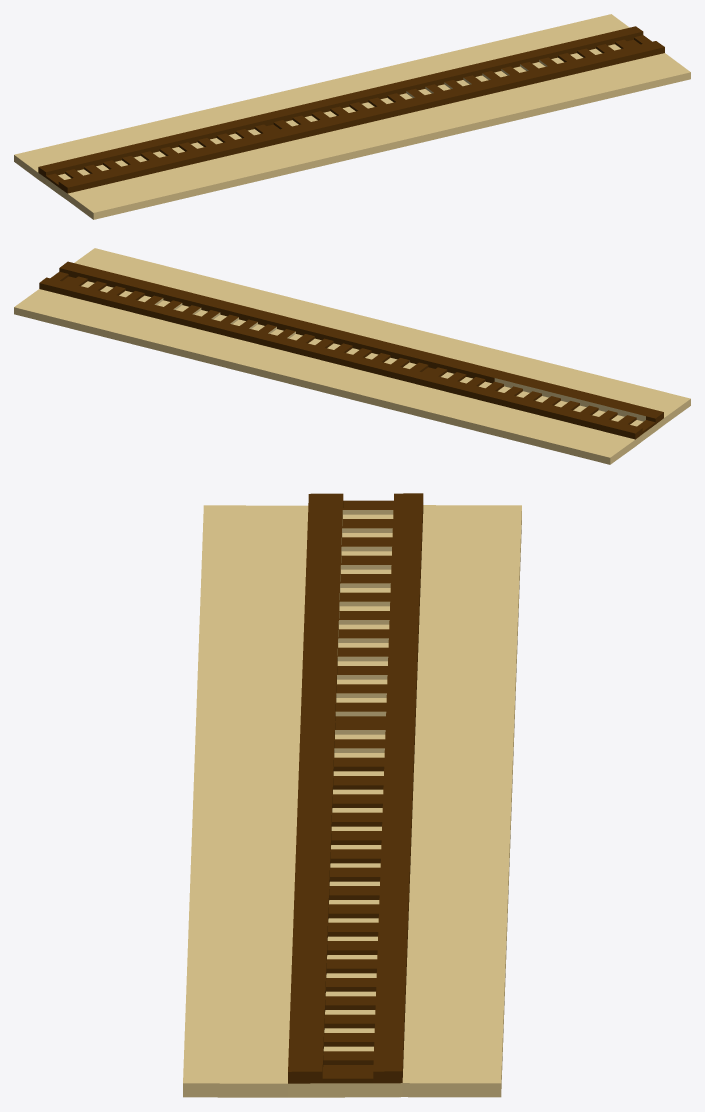
File: Rails.fbx
3 views of the same model, one above another, from view 1: azimuth 30°, elevation 25°; view 2: azimuth 150°, elevation 25°; view 3: azimuth 270°, elevation 25° (orthographic). The views are drawn at different scales.
Parts seen in each view (by area): view 1: Plane.005; view 2: Plane.005; view 3: Plane.005.
Boxes of the visible parts, <box> form: Plane.005: <box>14,14,690,219</box>; Plane.005: <box>14,248,690,464</box>; Plane.005: <box>183,493,521,1097</box>.
Bounding box in the file's own units: 2303 × 47.93 × 571.
